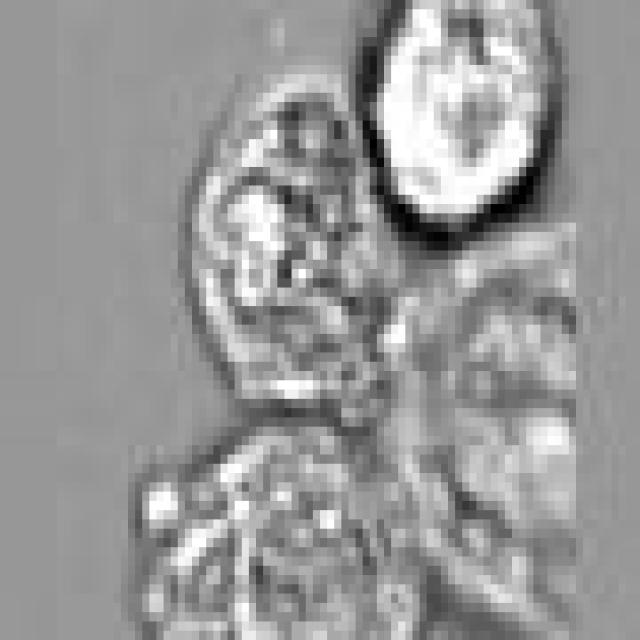Cancer Cell: (384, 204, 583, 631), (192, 84, 434, 426)
WBC: (149, 417, 427, 640), (362, 9, 562, 223)
